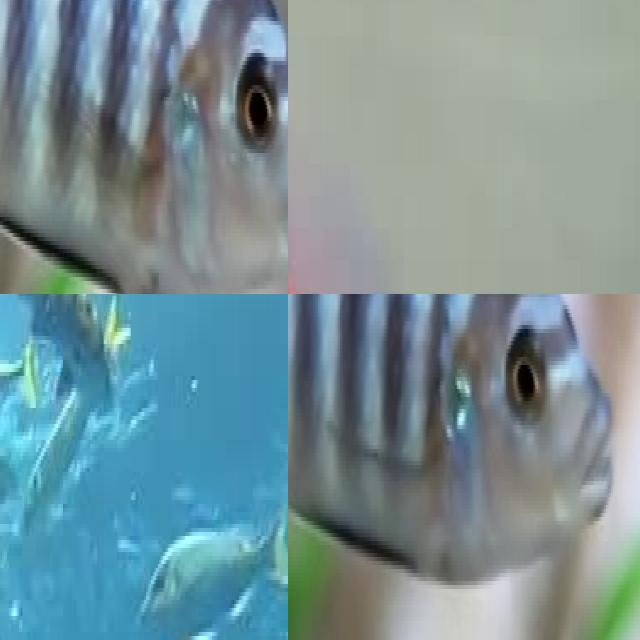fish: (288, 0, 640, 294), (0, 0, 288, 294)
